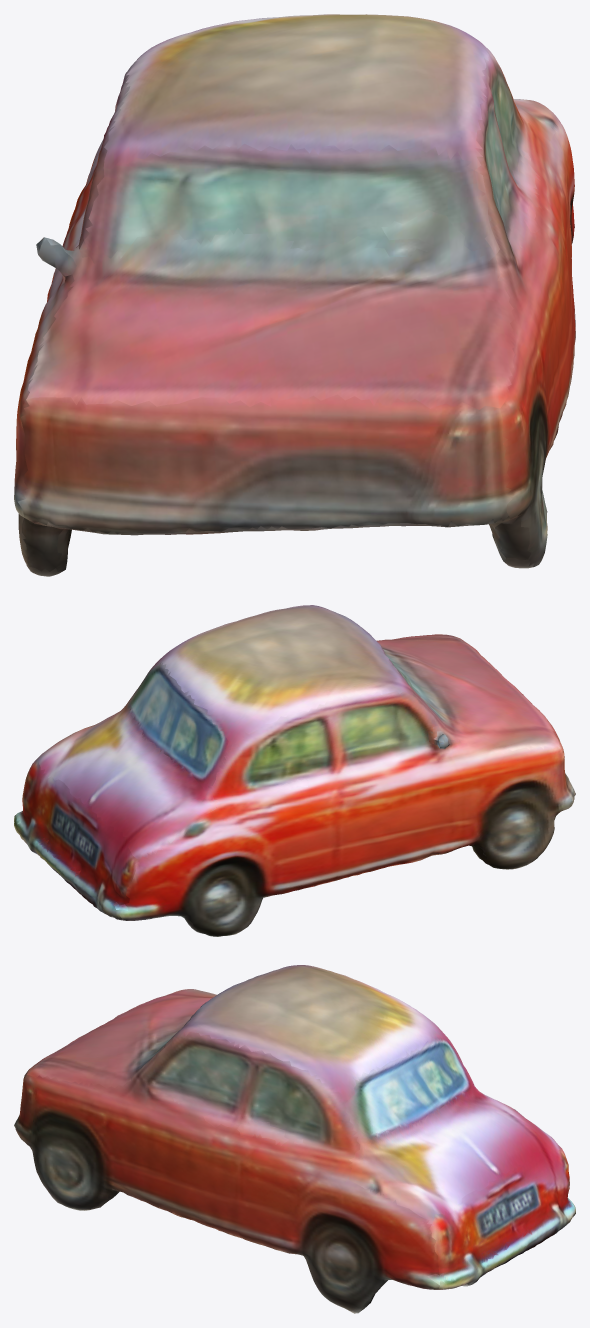
Rendered from ACar-b757.glb.
The picture shows the model from 3 angles, top to bottom: view 1: azimuth 30°, elevation 25°; view 2: azimuth 150°, elevation 25°; view 3: azimuth 270°, elevation 25°; orthographic projection. The views are drawn at different scales.
Visible parts, largest first — view 1: world; view 2: world; view 3: world.
Boxes of the visible parts, x1,y1,x2,y2 form: world: [14, 14, 575, 576]; world: [14, 605, 575, 936]; world: [14, 965, 575, 1313].
Bounding box in the file's own units: 0.8983 × 0.4652 × 0.9895.
1 material, 1 textured.
